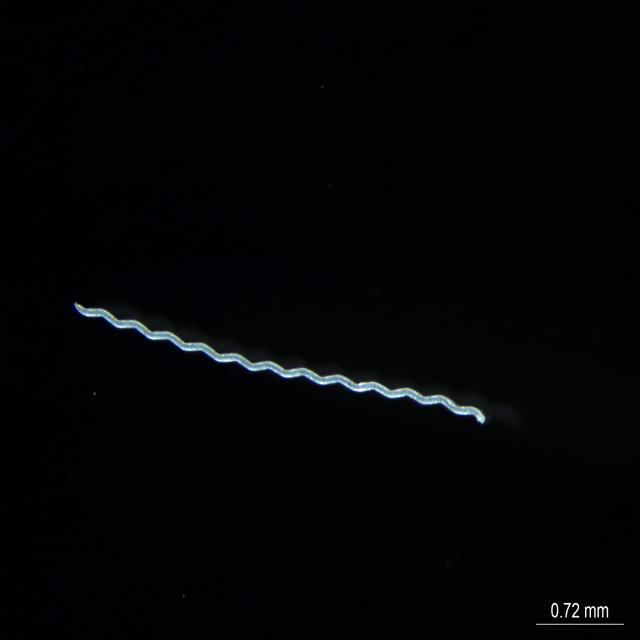fibers: (68, 301, 489, 431)
